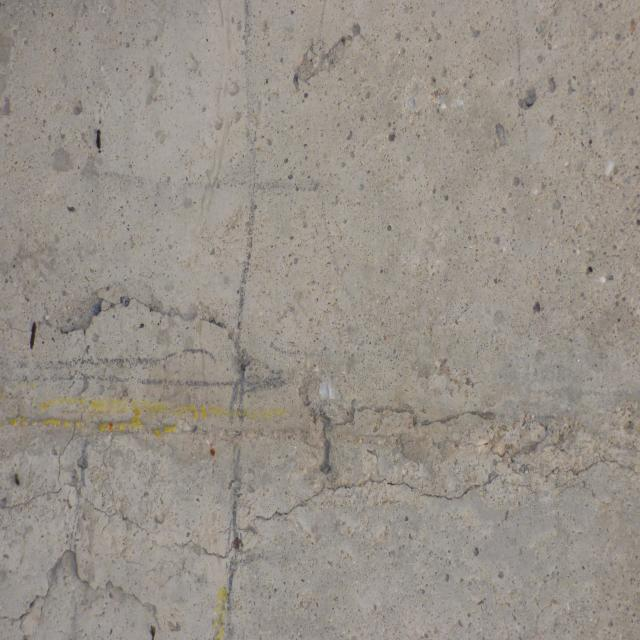corrosion: (232, 536, 245, 556)
